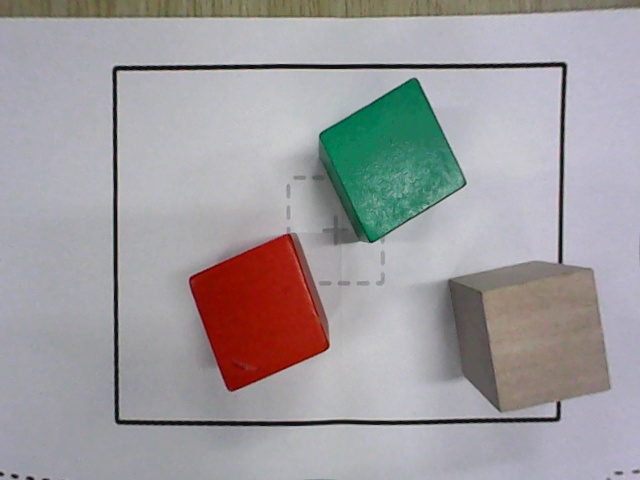upside of big cube: (319, 76, 468, 243), (187, 235, 331, 393), (481, 269, 613, 414)
